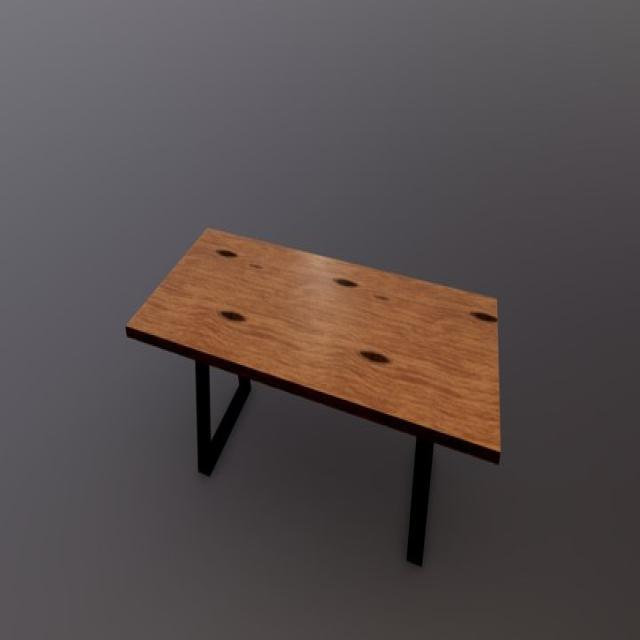table: (126, 224, 504, 569)
